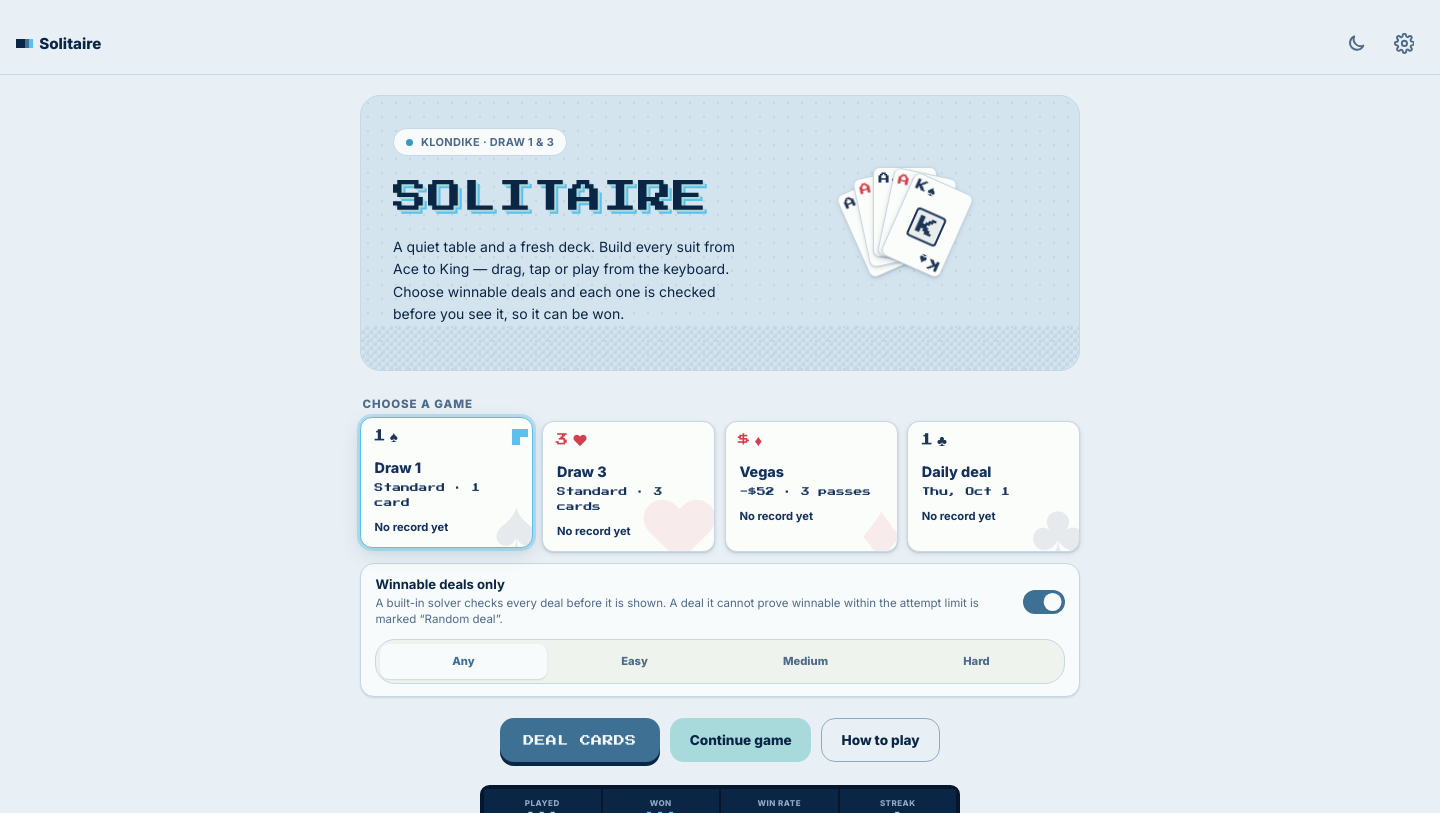
Continue game › resumes the game unchanged by pointer
Click the button "Continue game" at (741, 740), box [670,718,811,762]
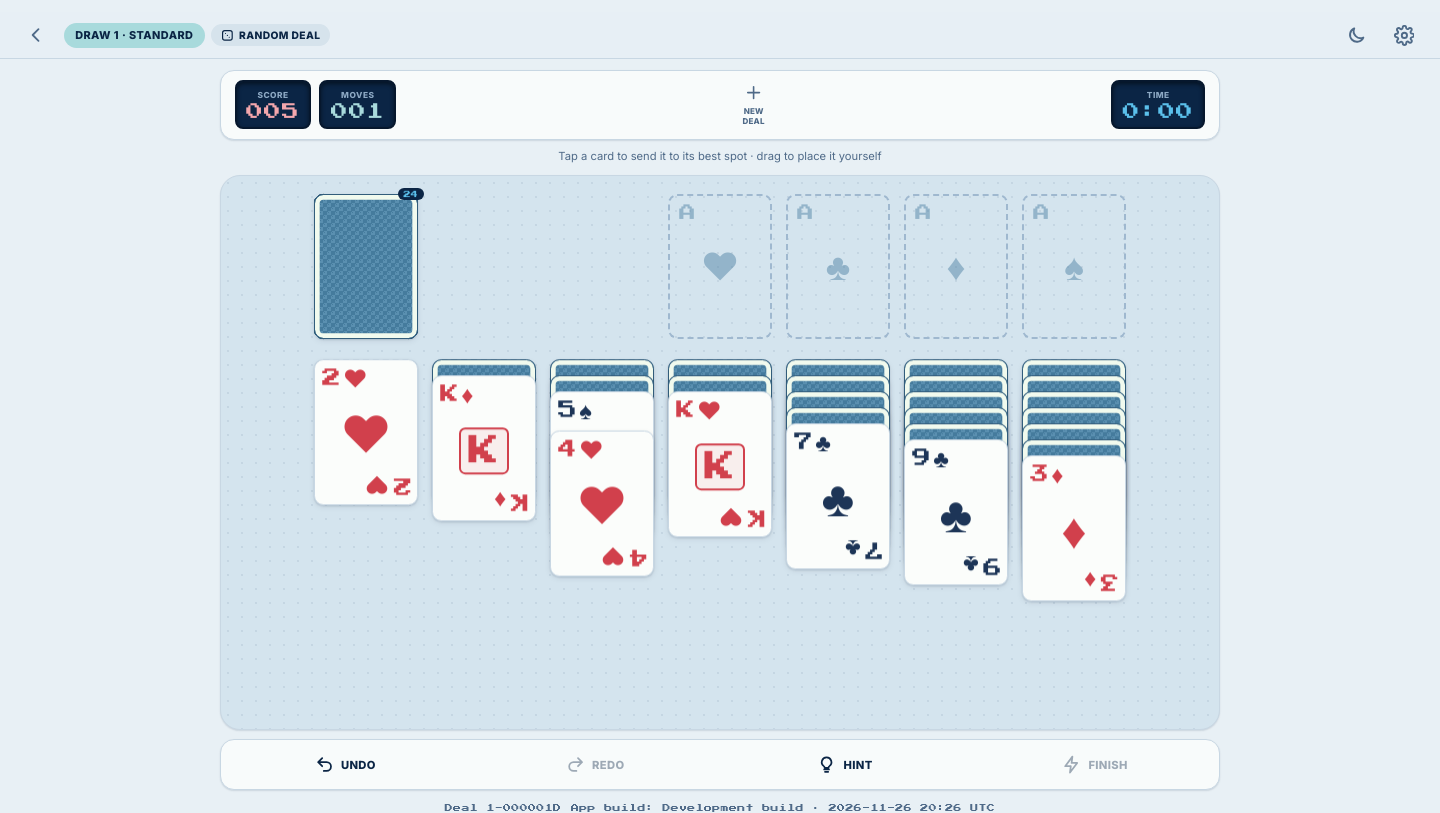
Check: the button named "back to home" is shown, box [16,15,56,55]
